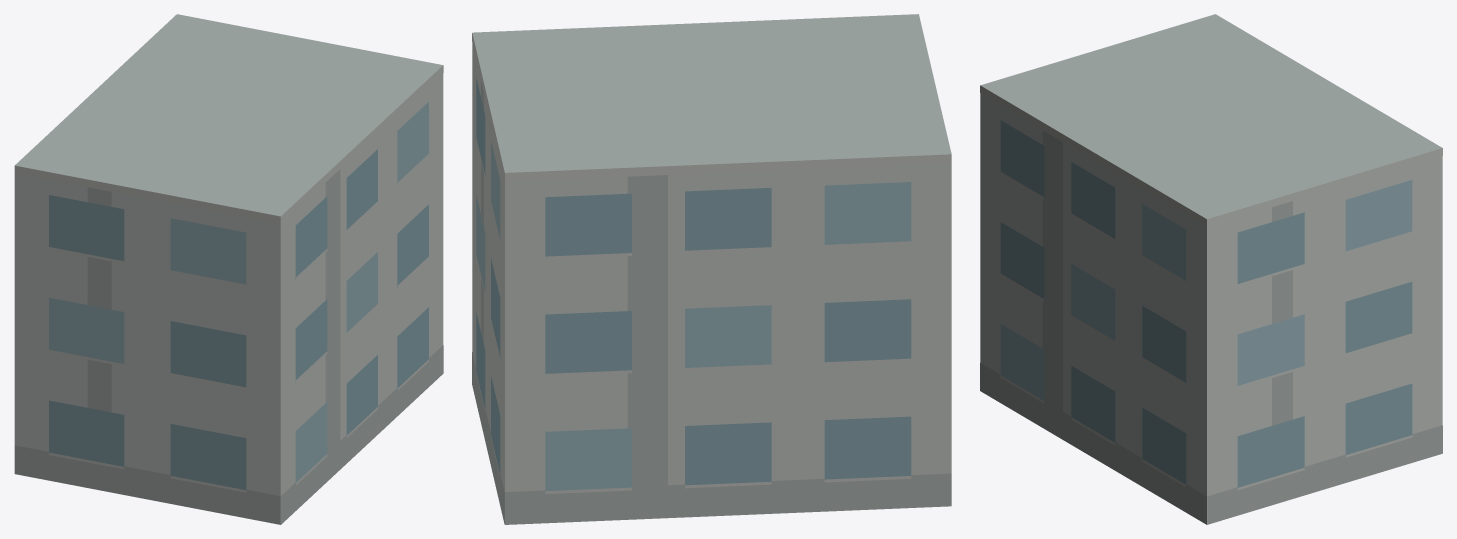
The model's file is residential-8cdf29ab-7a63-4b20-ad64-ea57e4562b13.glb.
3 renders of one model, left to right at view 1: azimuth 30°, elevation 25°; view 2: azimuth 150°, elevation 25°; view 3: azimuth 270°, elevation 25°, orthographic. The views are drawn at different scales.
Visible parts, largest first — view 1: residential-8cdf29ab-7a63-4b20-ad64-ea57e4562b13.tmp; view 2: residential-8cdf29ab-7a63-4b20-ad64-ea57e4562b13.tmp; view 3: residential-8cdf29ab-7a63-4b20-ad64-ea57e4562b13.tmp.
Part boxes in pixels (left/top/right/bottom): residential-8cdf29ab-7a63-4b20-ad64-ea57e4562b13.tmp: left=14, top=14, right=443, bottom=524; residential-8cdf29ab-7a63-4b20-ad64-ea57e4562b13.tmp: left=472, top=14, right=951, bottom=524; residential-8cdf29ab-7a63-4b20-ad64-ea57e4562b13.tmp: left=980, top=14, right=1442, bottom=524.
Bounding box in the file's own units: 13.98 × 9.7 × 13.31.
